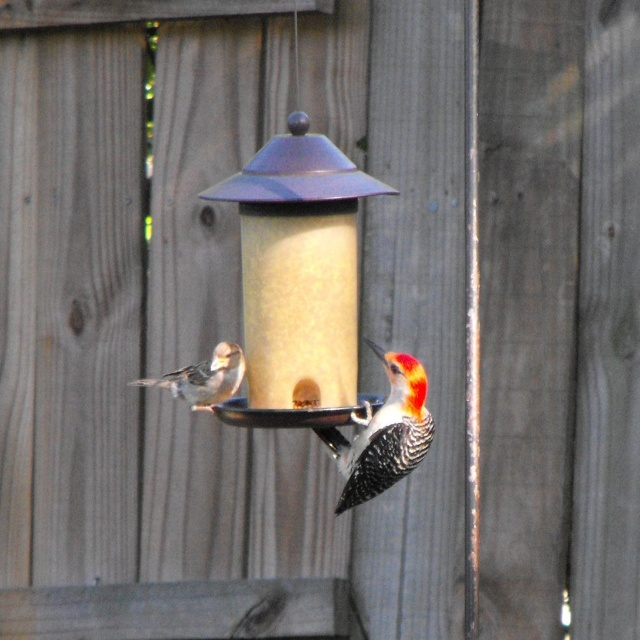Sparrow: (127, 341, 247, 416)
